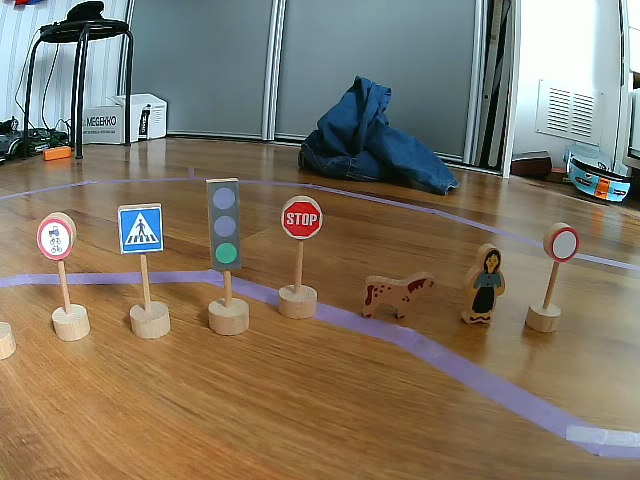fietspad: (36, 217, 73, 261)
groenlicht: (209, 180, 241, 270)
mens: (457, 246, 507, 324)
paard: (362, 273, 439, 318)
stopbord: (280, 198, 323, 238)
wegdicht: (549, 225, 581, 263)
zebrapad: (118, 206, 159, 253)
